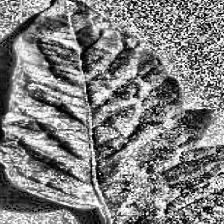Blossom Blight: (113, 182, 165, 218), (206, 174, 224, 194)
